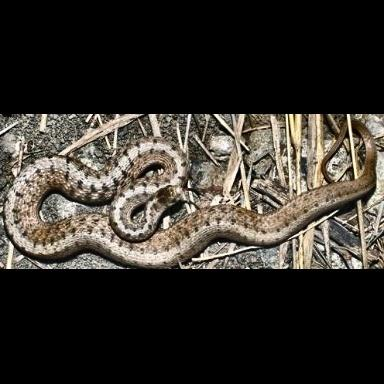snake: (3, 138, 377, 268)
